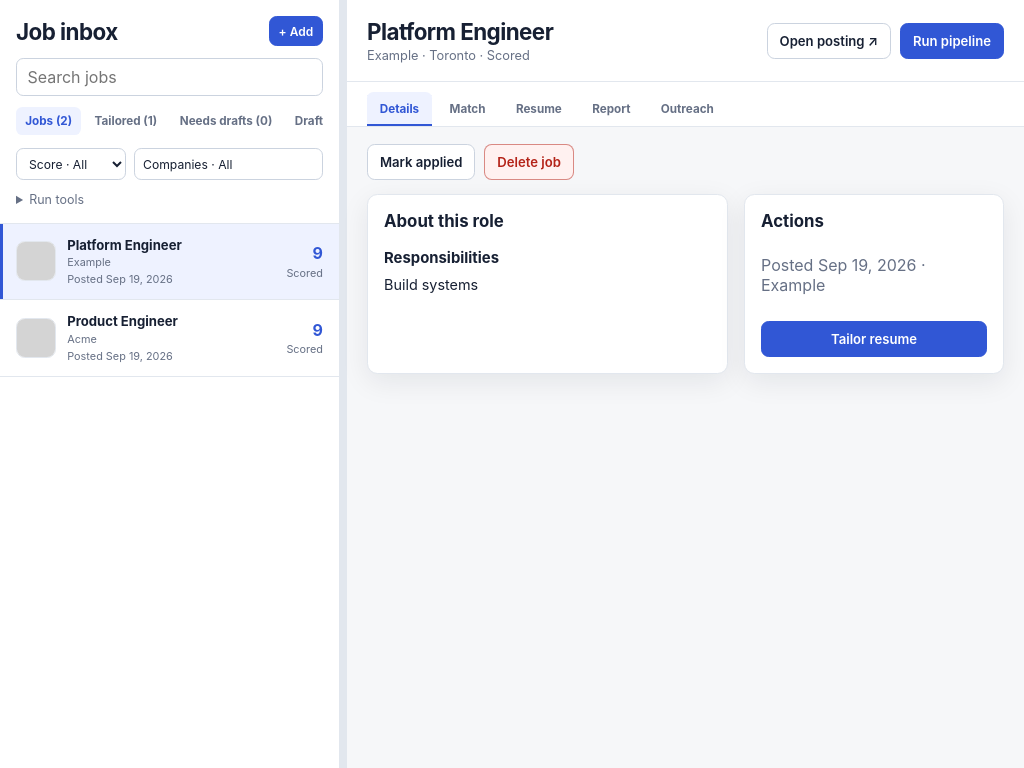
it: JobsPage › keeps company selections separate for each status tab
Step 1. Click the heading "Companies · All" → point(228, 164), box [134, 148, 323, 180]
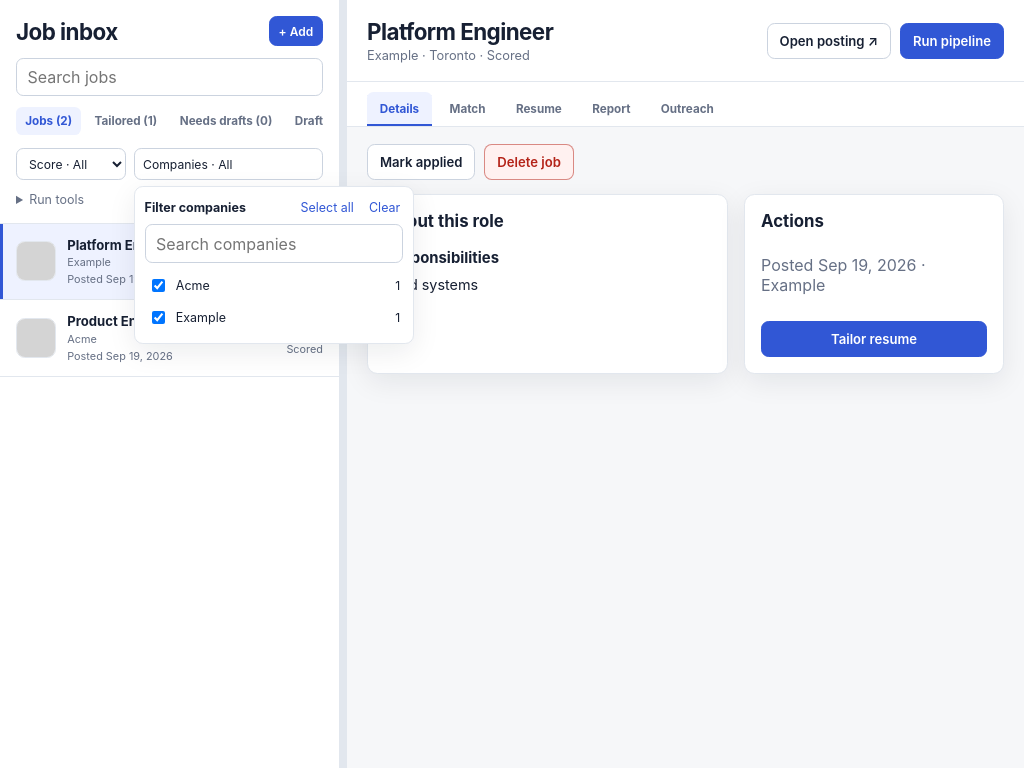
Step 2. Click the checkbox labelled "Acme 1" → point(158, 285), box [152, 279, 165, 292]
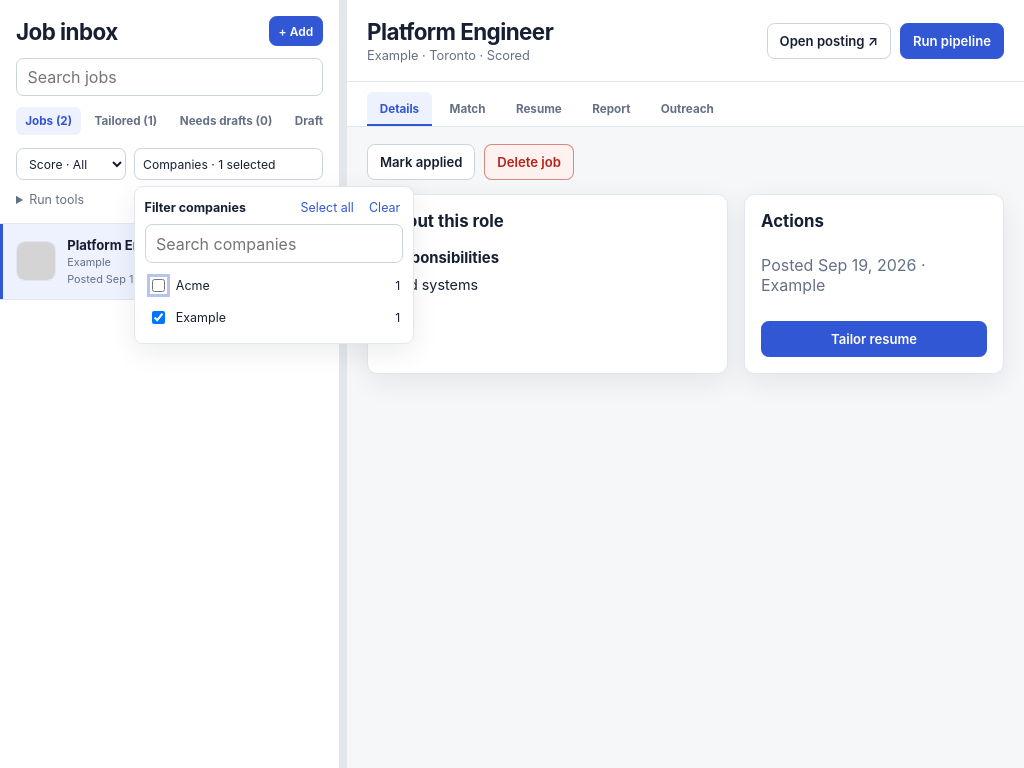
Step 3. Click the button "Tailored (1)" → point(126, 121), box [85, 107, 166, 135]
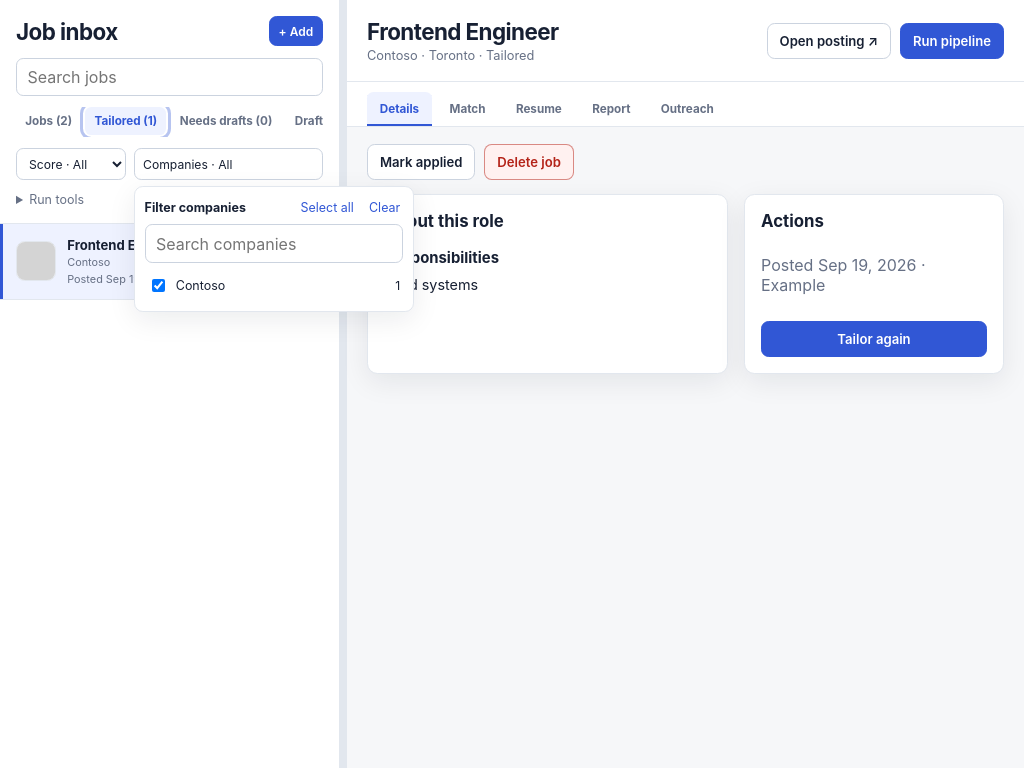
Now the checkbox labelled "Contoso 1" is checked
Now the text "Frontend Engineer" is shown, box [67, 237, 185, 253]
Step 4. Click the checkbox labelled "Contoso 1" → point(158, 285), box [152, 279, 165, 292]
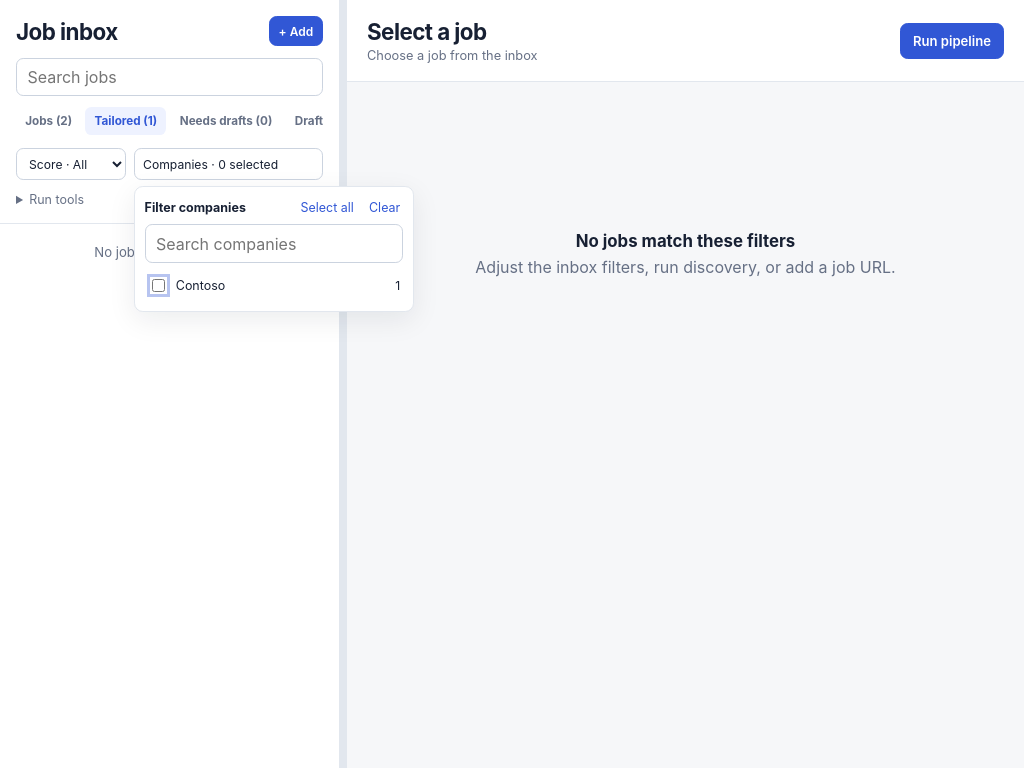
Now the text "No jobs match this view." is shown, box [94, 244, 245, 260]
Step 5. Click the button "Jobs (2)" → point(49, 121), box [16, 107, 81, 135]
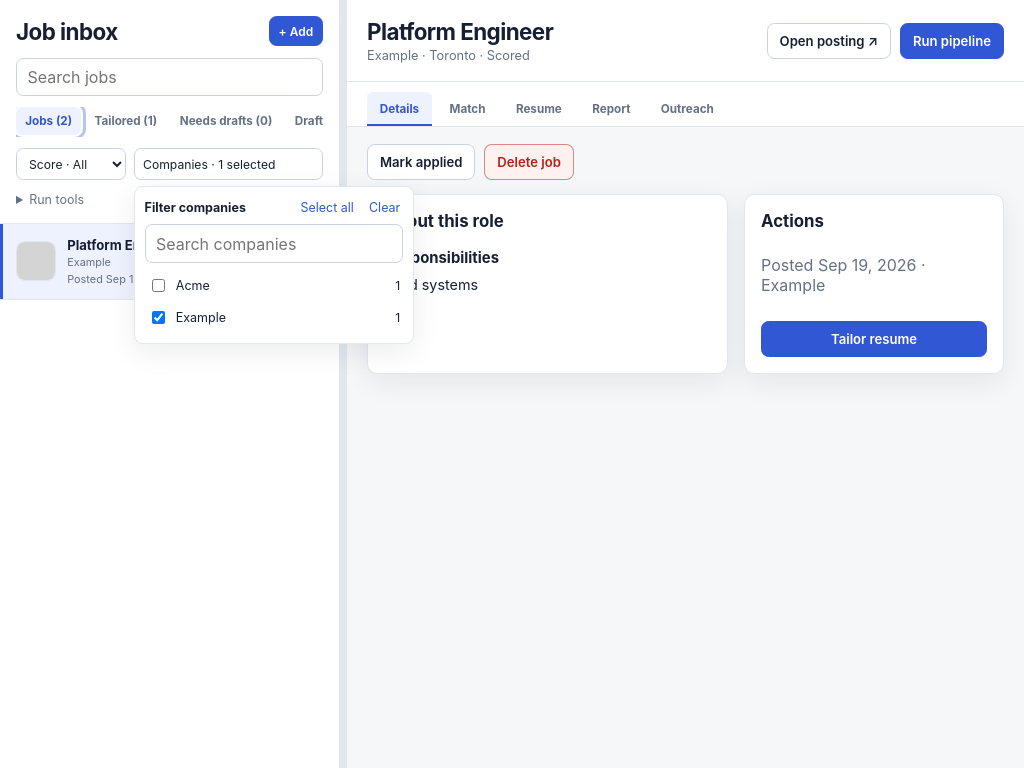
Expected: the button "Product Engineer" is not shown
Now the checkbox labelled "Acme 1" is not checked, box [152, 279, 165, 292]
Now the checkbox labelled "Example 1" is checked, box [152, 310, 165, 324]
